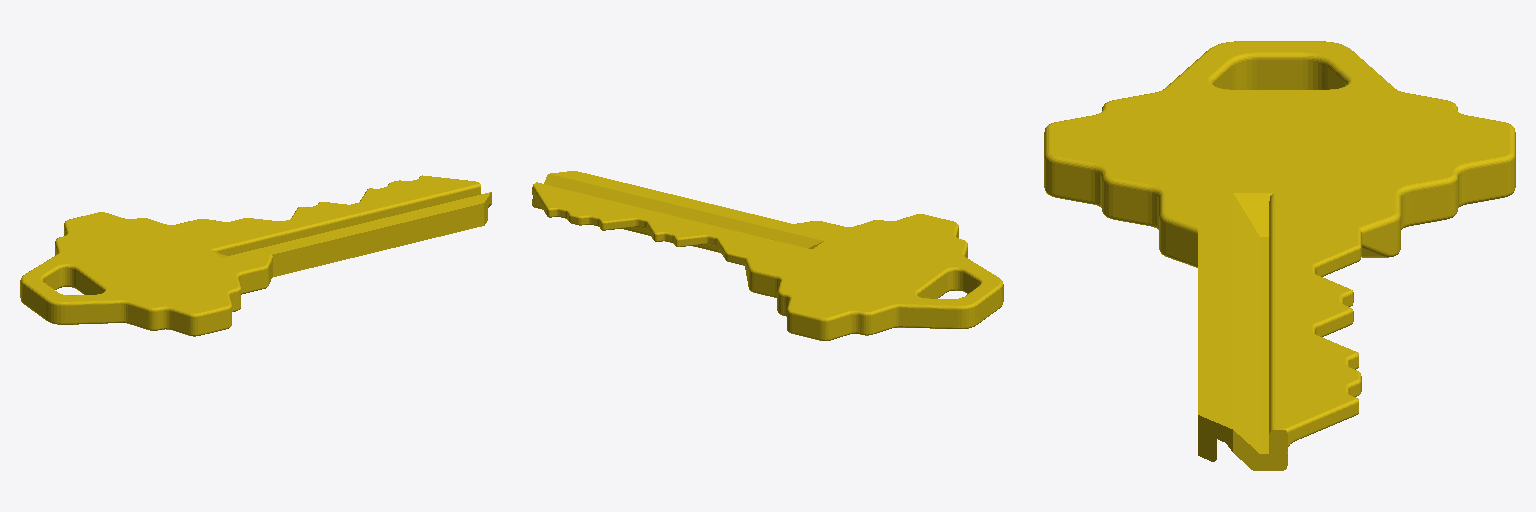
URDF robot description (cb_key_3):
<?xml version="1.0"?>
<!-- ContactBench key_3. Generated by FoundationTouch tools/contactbench/make_contactbench_assets.py -->
<robot name="cb_key_3">
  <material name="c"><color rgba="0.85 0.75 0.10 1.0"/></material>
  <link name="object">
    <visual><origin xyz="0 0 0" rpy="0 0 0"/><geometry><mesh filename="key_3.obj" scale="1 1 1"/></geometry><material name="c"/></visual>
    <collision><origin xyz="0 0 0" rpy="0 0 0"/><geometry><mesh filename="coll_00.obj" scale="1 1 1"/></geometry></collision>
    <collision><origin xyz="0 0 0" rpy="0 0 0"/><geometry><mesh filename="coll_01.obj" scale="1 1 1"/></geometry></collision>
    <collision><origin xyz="0 0 0" rpy="0 0 0"/><geometry><mesh filename="coll_02.obj" scale="1 1 1"/></geometry></collision>
    <collision><origin xyz="0 0 0" rpy="0 0 0"/><geometry><mesh filename="coll_03.obj" scale="1 1 1"/></geometry></collision>
    <collision><origin xyz="0 0 0" rpy="0 0 0"/><geometry><mesh filename="coll_04.obj" scale="1 1 1"/></geometry></collision>
    <collision><origin xyz="0 0 0" rpy="0 0 0"/><geometry><mesh filename="coll_05.obj" scale="1 1 1"/></geometry></collision>
    <collision><origin xyz="0 0 0" rpy="0 0 0"/><geometry><mesh filename="coll_06.obj" scale="1 1 1"/></geometry></collision>
    <collision><origin xyz="0 0 0" rpy="0 0 0"/><geometry><mesh filename="coll_07.obj" scale="1 1 1"/></geometry></collision>
    <collision><origin xyz="0 0 0" rpy="0 0 0"/><geometry><mesh filename="coll_08.obj" scale="1 1 1"/></geometry></collision>
    <collision><origin xyz="0 0 0" rpy="0 0 0"/><geometry><mesh filename="coll_09.obj" scale="1 1 1"/></geometry></collision>
    <collision><origin xyz="0 0 0" rpy="0 0 0"/><geometry><mesh filename="coll_10.obj" scale="1 1 1"/></geometry></collision>
    <collision><origin xyz="0 0 0" rpy="0 0 0"/><geometry><mesh filename="coll_11.obj" scale="1 1 1"/></geometry></collision>
    <collision><origin xyz="0 0 0" rpy="0 0 0"/><geometry><mesh filename="coll_12.obj" scale="1 1 1"/></geometry></collision>
    <collision><origin xyz="0 0 0" rpy="0 0 0"/><geometry><mesh filename="coll_13.obj" scale="1 1 1"/></geometry></collision>
    <collision><origin xyz="0 0 0" rpy="0 0 0"/><geometry><mesh filename="coll_14.obj" scale="1 1 1"/></geometry></collision>
    <collision><origin xyz="0 0 0" rpy="0 0 0"/><geometry><mesh filename="coll_15.obj" scale="1 1 1"/></geometry></collision>
    <inertial><mass value="0.001528"/><origin xyz="0 0 0" rpy="0 0 0"/><inertia ixx="4.480114e-08" ixy="6.571610e-09" ixz="-1.349732e-09" iyy="2.205574e-07" iyz="-1.412139e-10" izz="2.637946e-07"/></inertial>
  </link>
</robot>

--- Render facts (derived) ---
3 views of the same robot in one strip: view 1: azimuth 30°, elevation 25°; view 2: azimuth 150°, elevation 25°; view 3: azimuth 270°, elevation 25° (orthographic).
Model cb_key_3 with 1 links and 0 joints (none), rooted at object, posed all joints at 0.
Links seen in each view (by area): view 1: object; view 2: object; view 3: object.
Link boxes in pixels (<box>): object: <box>20,175,491,336</box>; object: <box>532,171,1003,340</box>; object: <box>1044,41,1515,470</box>.
Bounding box of the posed robot: 0.051 × 0.026 × 0.0025 m (x, y, z).
1 mesh visuals loaded from 1 distinct referenced files (1 OBJ).
